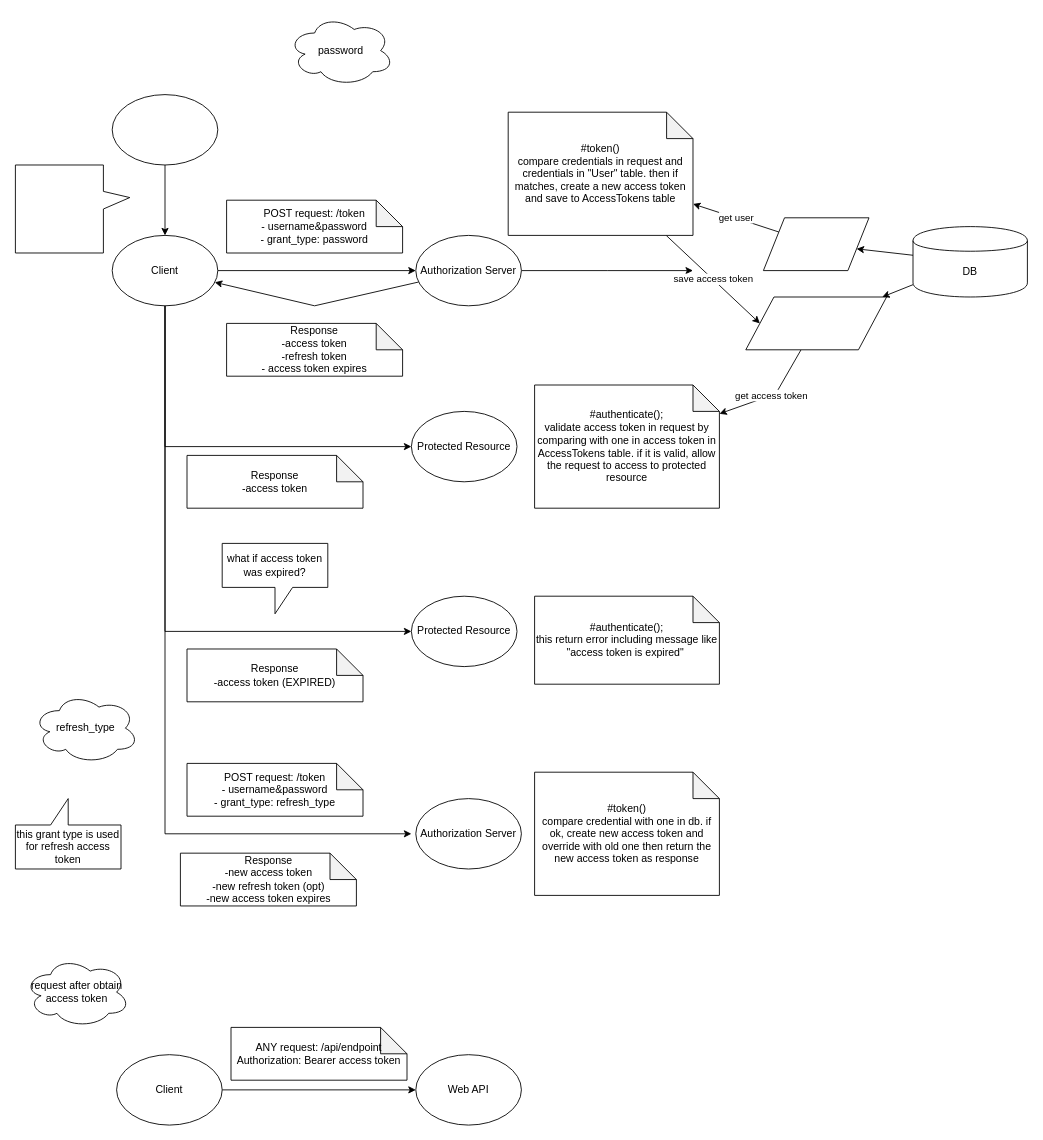
This 1043x1140 diagram has some shape labels left out. The box of each missing label's shape, as (x1, y1, x2, y2) in pixels:
AccessTokens table: (745, 296, 887, 350)
Resource Owner (user): (111, 94, 218, 165)
User table: (763, 217, 869, 271)
username password: (15, 164, 130, 253)
